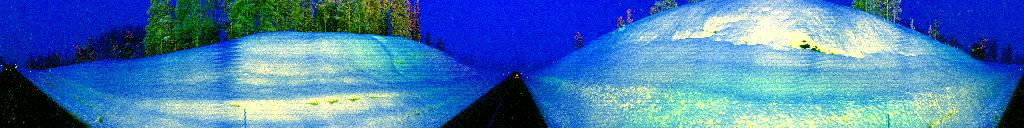pole: (241, 104, 248, 128), (884, 110, 892, 128)
